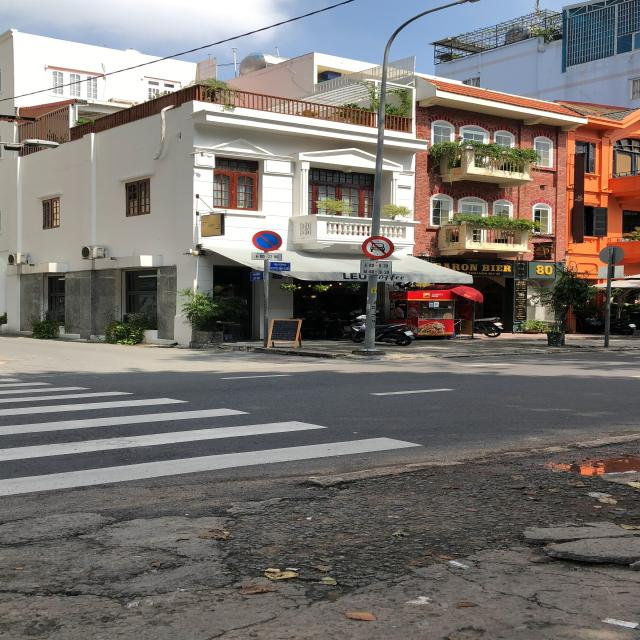Bien bao cam do xe: (250, 228, 288, 252)
Bien bao cam xe oto: (360, 234, 396, 260)
